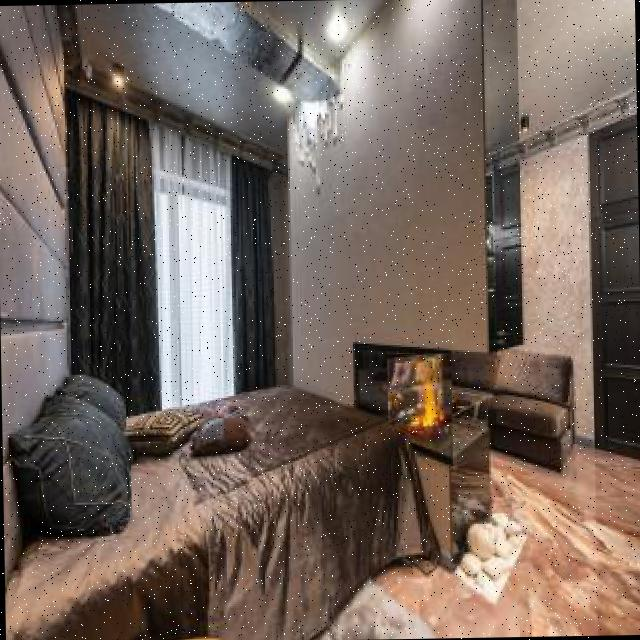fire: (386, 353, 452, 427)
